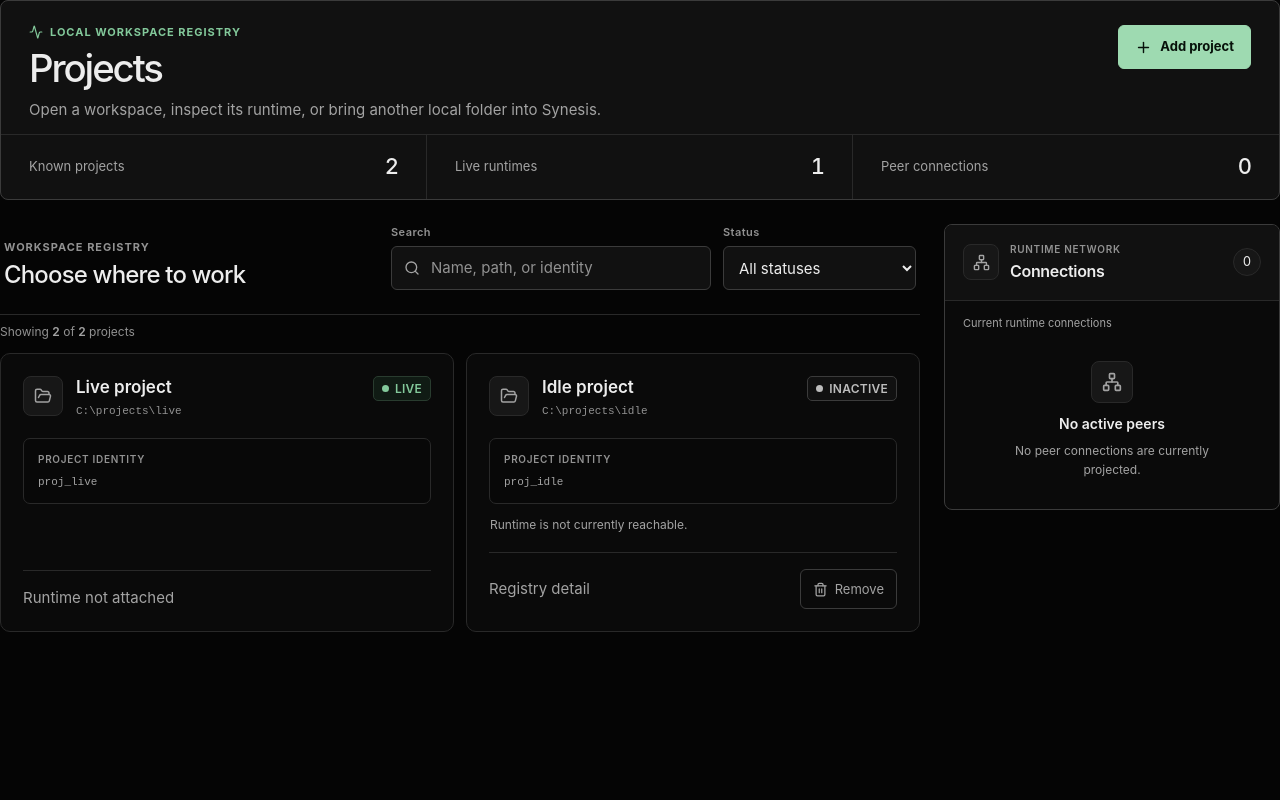
Scenario: truthful product states › restores an optimistically removed project when registry removal fails
The width and height of the screenshot is (1280, 800).
What coordinates should you click on to do the following:
click the button with aria-label "Remove Idle project from registry"
I would click on:
 (848, 589)
Its box is 800,569 -> 897,609.
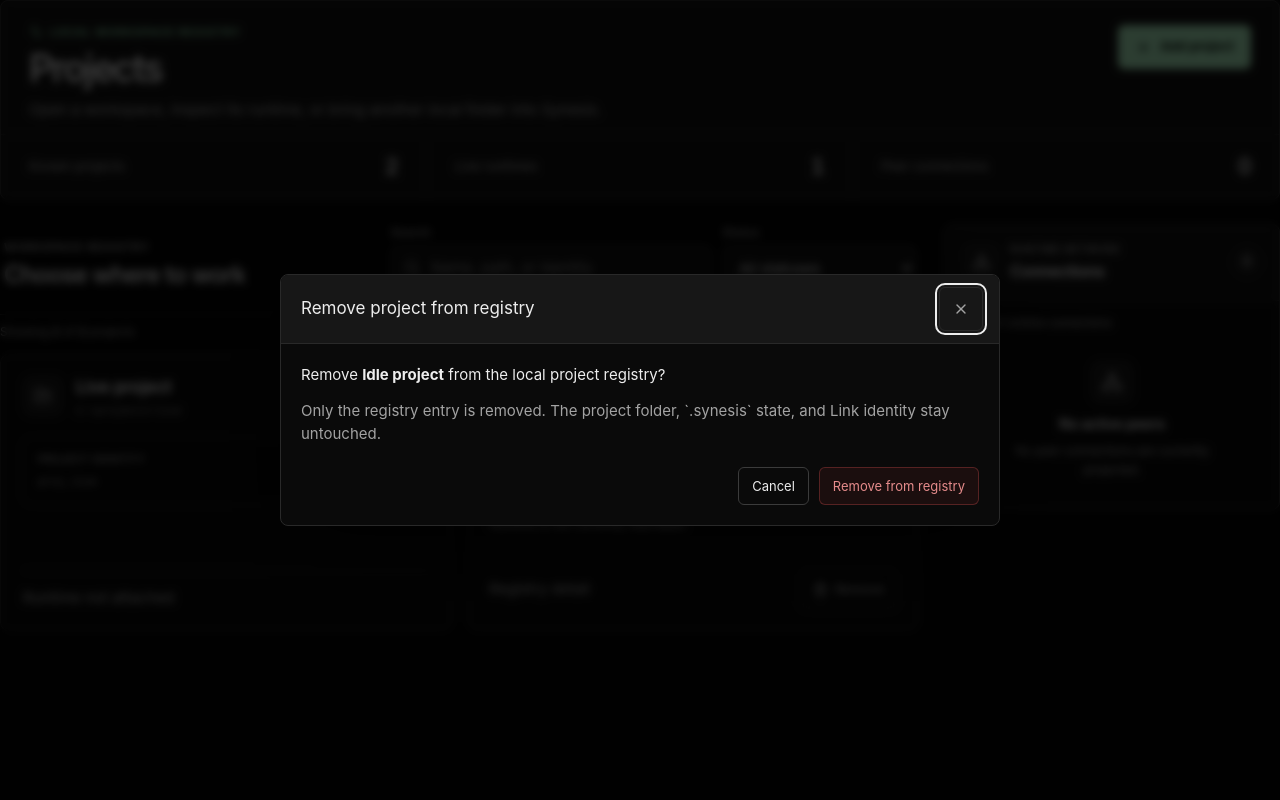
What coordinates should you click on to do the following:
click the button "Remove from registry"
I would click on:
 (899, 486)
Its box is 819,467 -> 979,505.
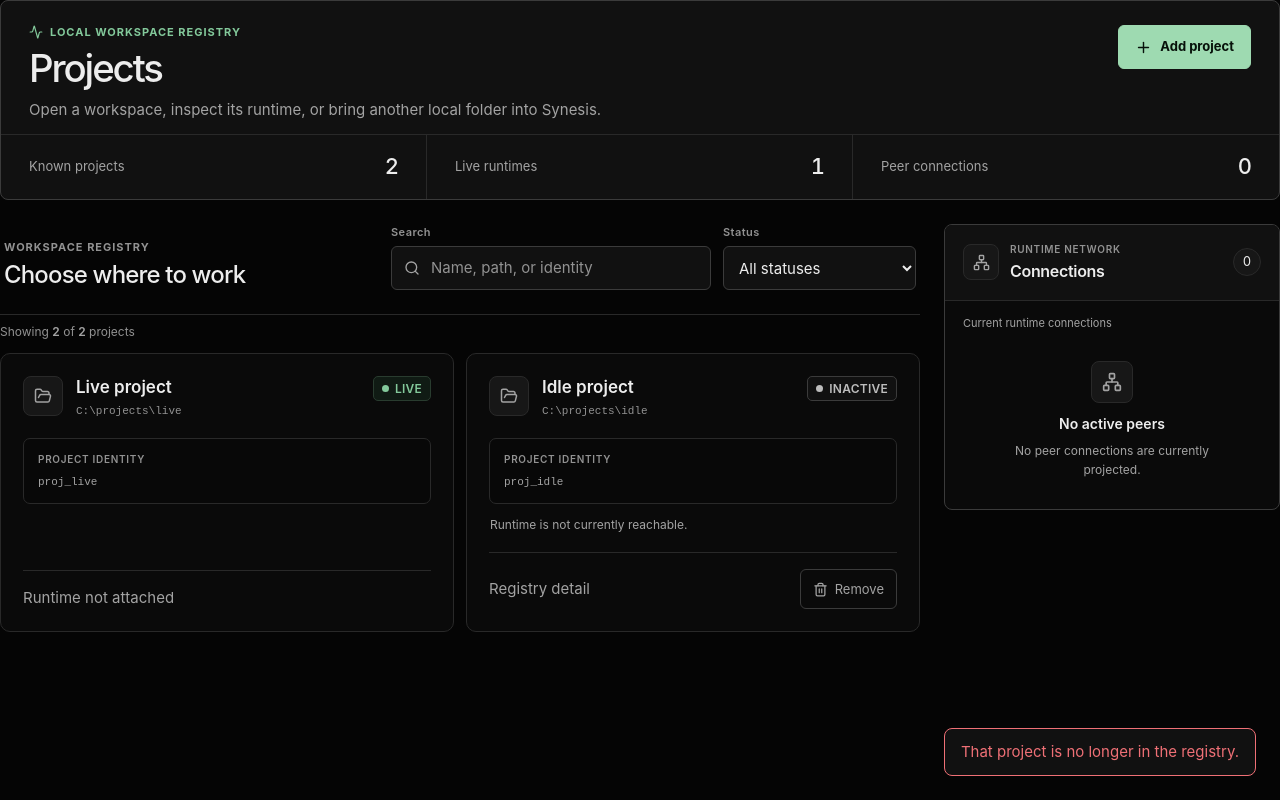
Check: the text "Idle project" is shown, box 542,376 -> 634,398
Check: the message shows "no longer in the registry", box 961,742 -> 1239,760
